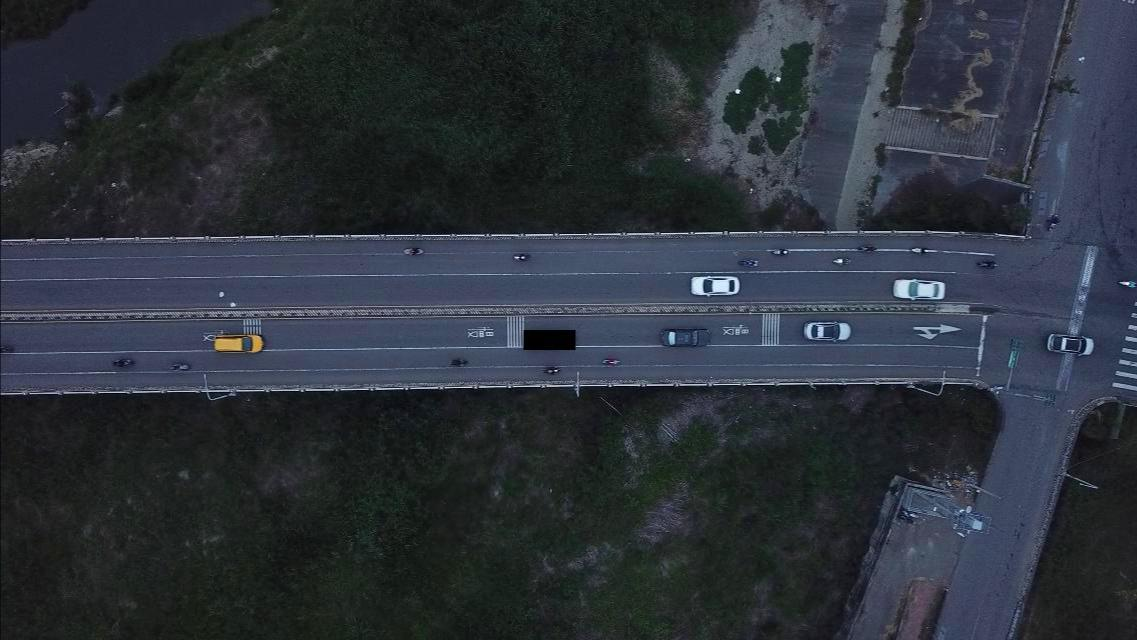vehicle: (893, 277, 949, 303), (659, 328, 712, 351), (690, 274, 740, 298), (803, 319, 852, 343), (213, 332, 266, 353), (1046, 334, 1094, 356)
